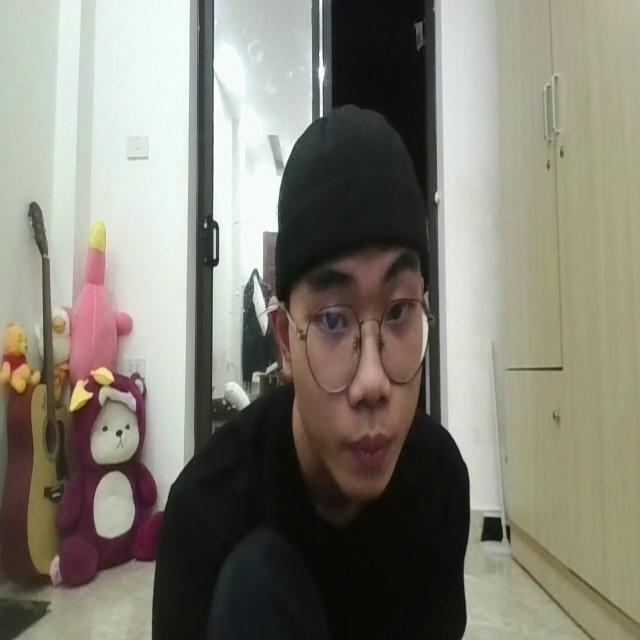student: (153, 101, 466, 640)
